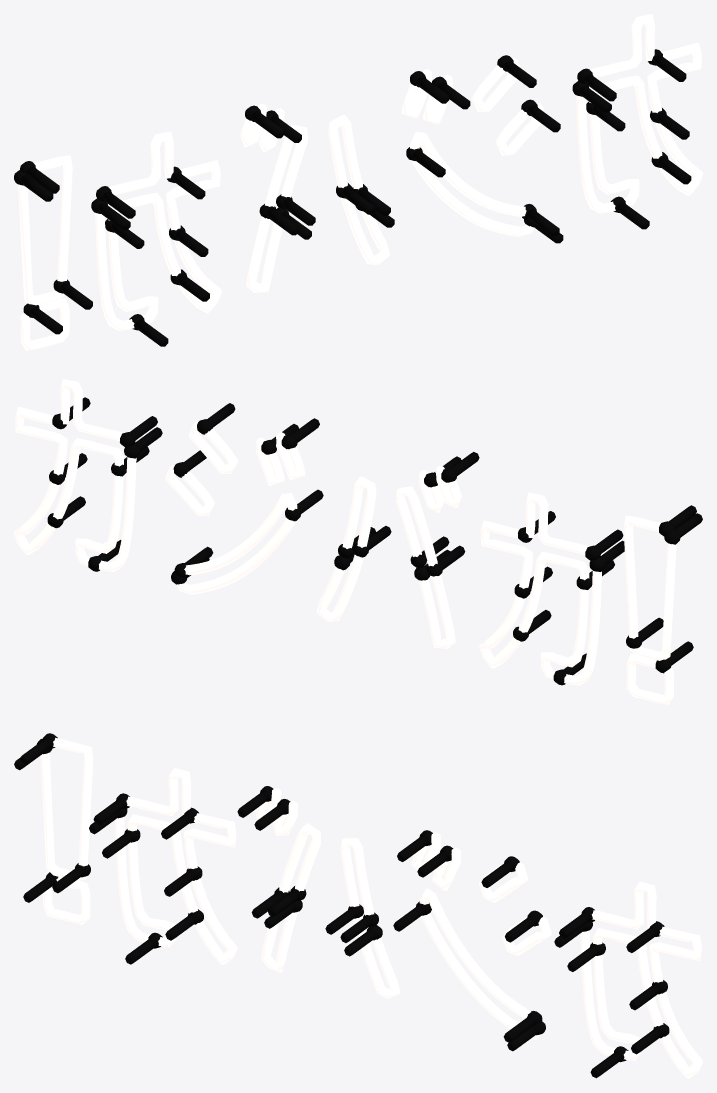
The model's file is neon_kazibaka!.fbx.
3 views of the same model, one above another, from view 1: azimuth 30°, elevation 25°; view 2: azimuth 150°, elevation 25°; view 3: azimuth 330°, elevation 25° (orthographic). The views are drawn at different scales.
Parts seen in each view (by area): view 1: NeonEnglish; view 2: NeonEnglish; view 3: NeonEnglish.
Boxes of the visible parts, left/top/right/bottom form: NeonEnglish: left=14, top=14, right=702, bottom=350; NeonEnglish: left=14, top=379, right=702, bottom=704; NeonEnglish: left=14, top=733, right=702, bottom=1078.
Bounding box in the file's own units: 277 × 75.3 × 21.29.
